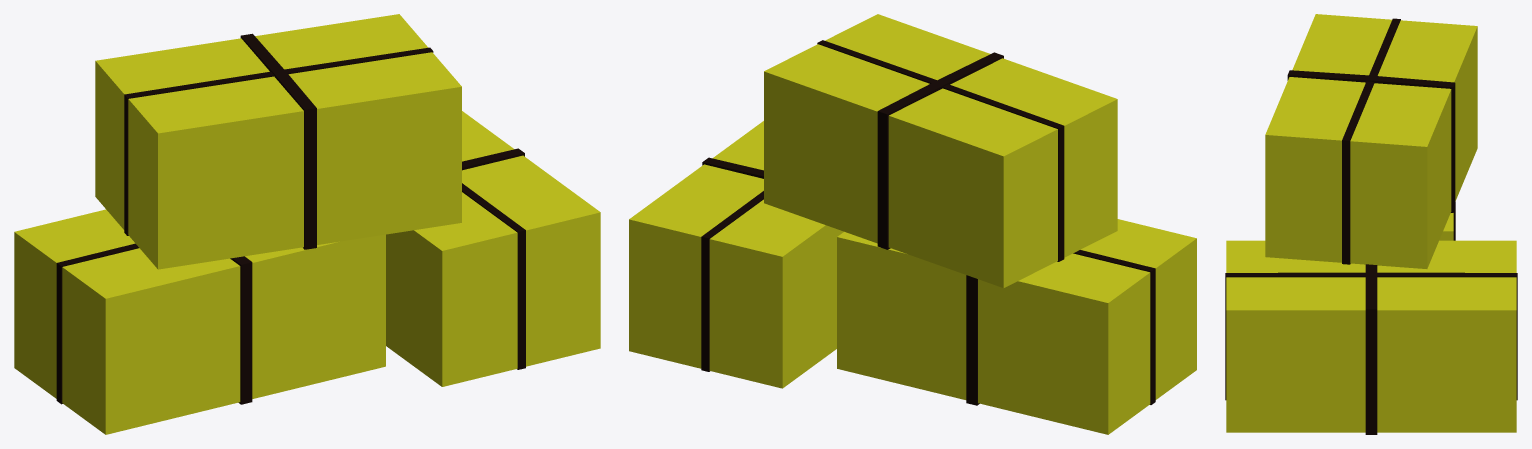
Rendered from trzy snopki słomy.FBX.
3 renders of one model, left to right at view 1: azimuth 30°, elevation 25°; view 2: azimuth 150°, elevation 25°; view 3: azimuth 270°, elevation 25°, orthographic. The views are drawn at different scales.
Parts seen in each view (by area): view 1: Box574, Box572, Box573; view 2: Box574, Box572, Box573; view 3: Box573, Box574, Box572.
Boxes of the visible parts, x1=… form: Box574: x1=95, y1=14, x2=461, y2=269; Box572: x1=14, y1=209, x2=385, y2=434; Box573: x1=386, y1=111, x2=600, y2=386; Box574: x1=764, y1=14, x2=1117, y2=288; Box572: x1=837, y1=219, x2=1196, y2=434; Box573: x1=629, y1=121, x2=843, y2=388; Box573: x1=1225, y1=240, x2=1517, y2=434; Box574: x1=1265, y1=14, x2=1477, y2=268; Box572: x1=1439, y1=202, x2=1455, y2=240.
Bounding box in the file's own units: 36.42 × 21.04 × 22.19.
